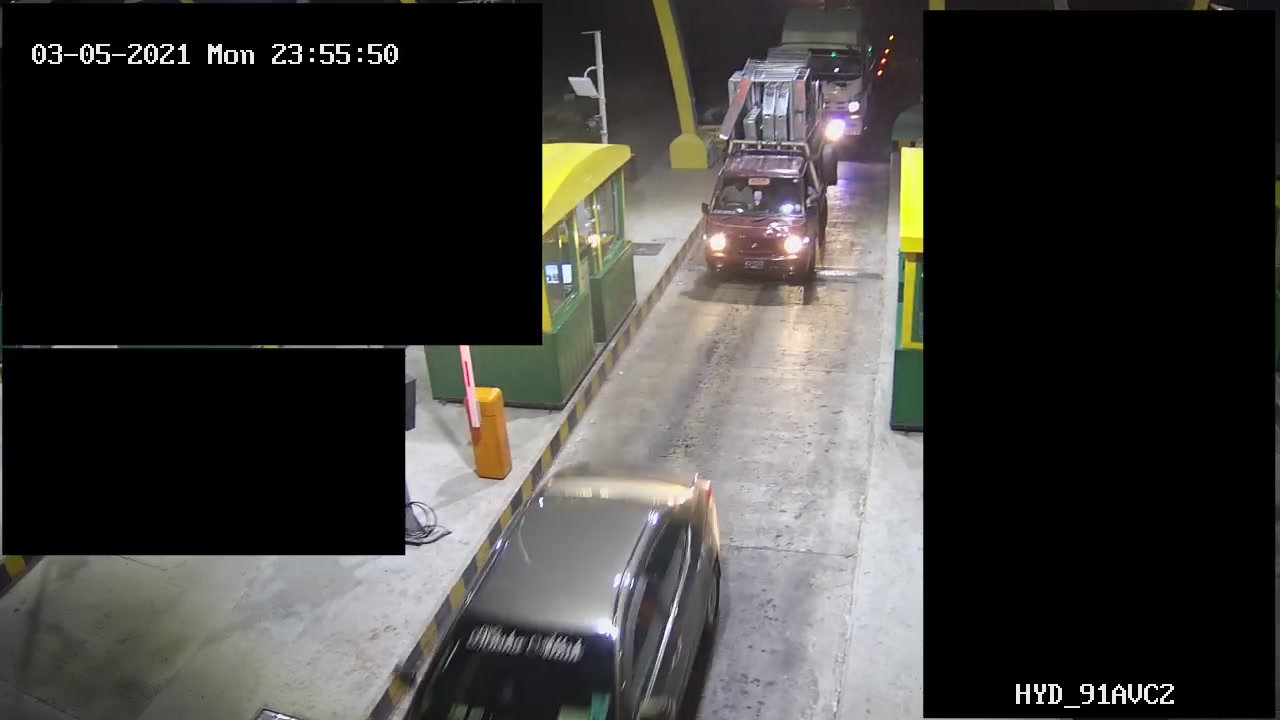F1: (696, 57, 832, 291)
